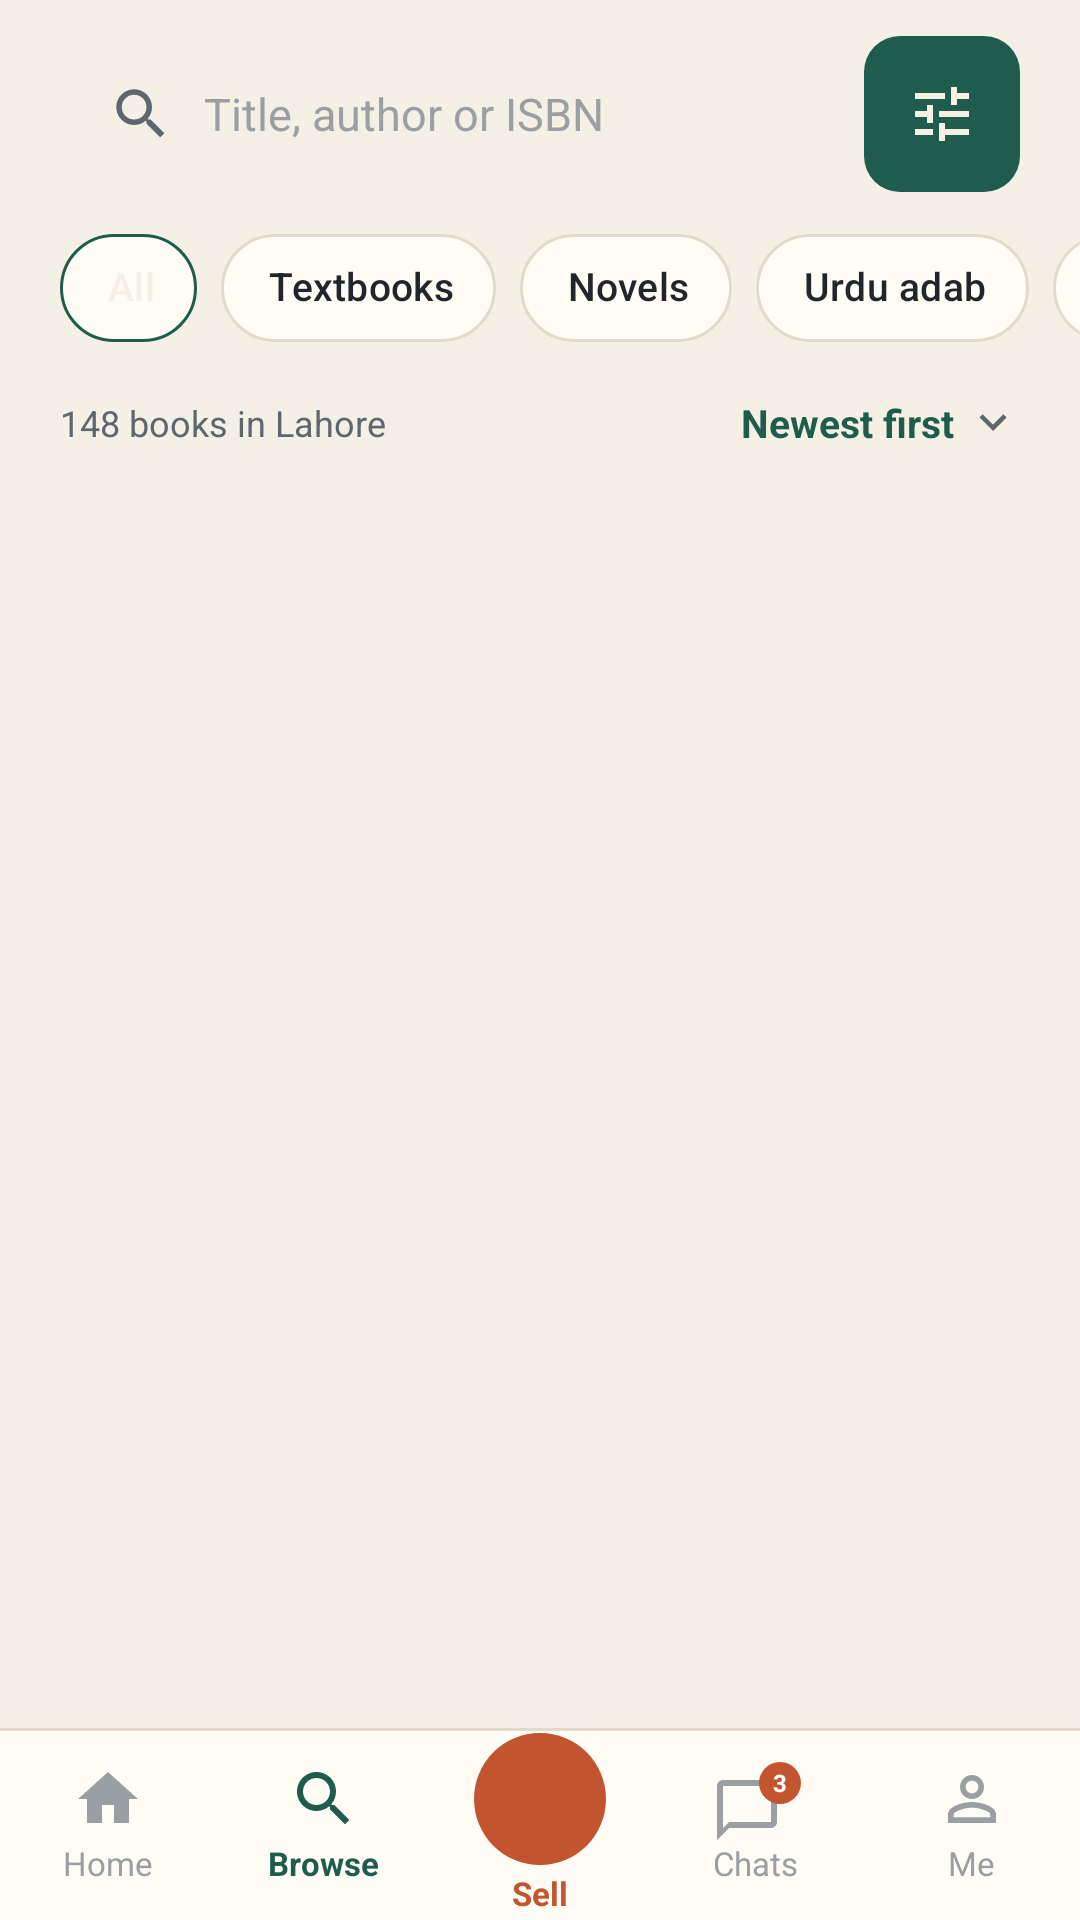

Screen size 1080w x 1920h. Icon name, then its box in pixels as (x1, y1, x2, y2):
expand: (979, 414, 1007, 431)
Filters: (864, 36, 1020, 192)
person: (948, 1775, 996, 1823)
search: (116, 89, 164, 137), (297, 1772, 349, 1824)
